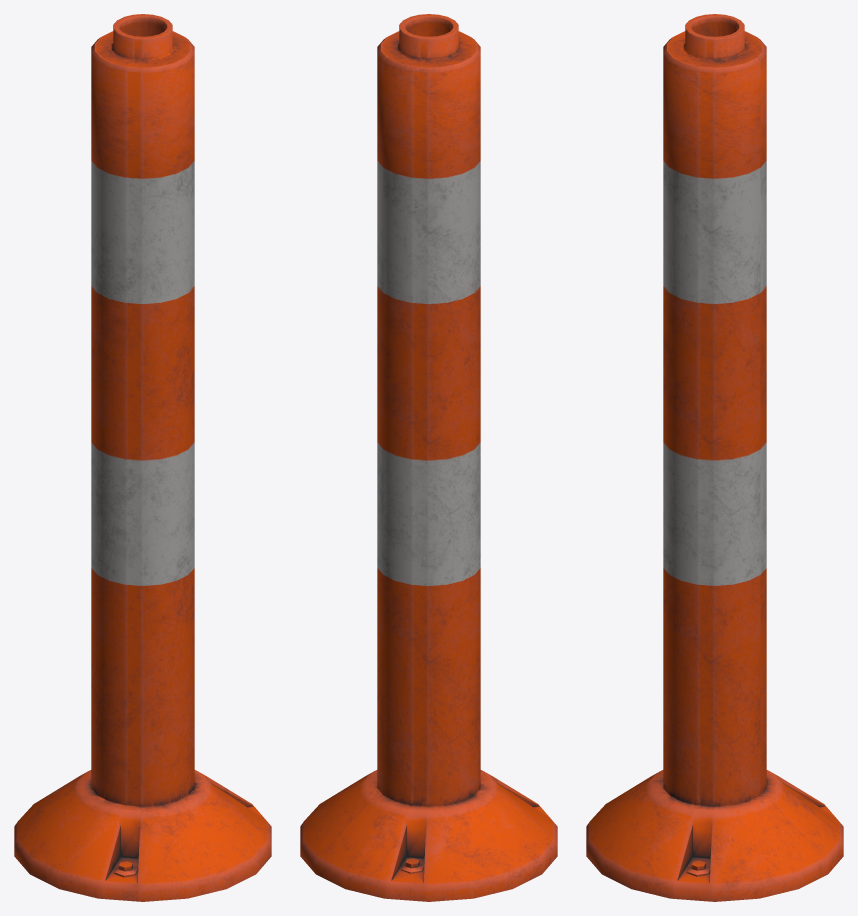
Rendered from TrafficColumn.FBX.
3 views of the same model, side by side, from view 1: azimuth 30°, elevation 25°; view 2: azimuth 150°, elevation 25°; view 3: azimuth 270°, elevation 25° (orthographic).
Parts seen in each view (by area): view 1: Box002; view 2: Box002; view 3: Box002.
Part boxes in pixels (x1=…): Box002: x1=14, y1=14, x2=271, y2=901; Box002: x1=300, y1=14, x2=557, y2=901; Box002: x1=586, y1=14, x2=843, y2=901.
Bounding box in the file's own units: 46.63 × 45.92 × 161.
Materials: 1 (1 with a texture image).
